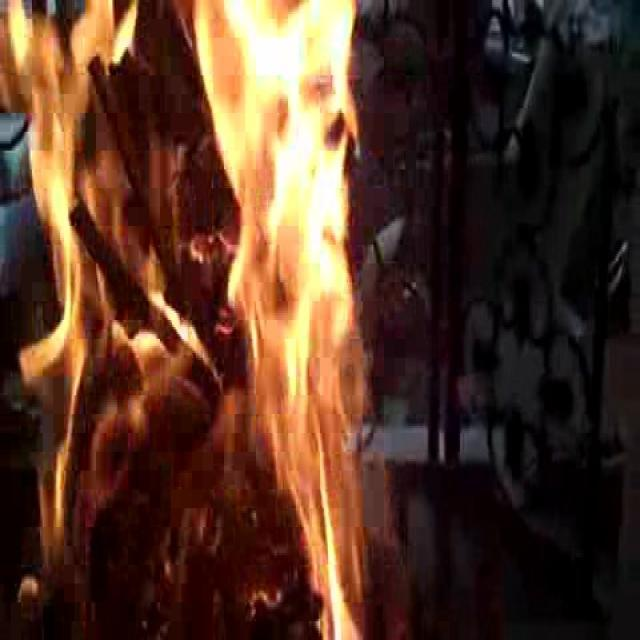Fire: (15, 17, 152, 413), (204, 12, 355, 368), (278, 386, 361, 614)
